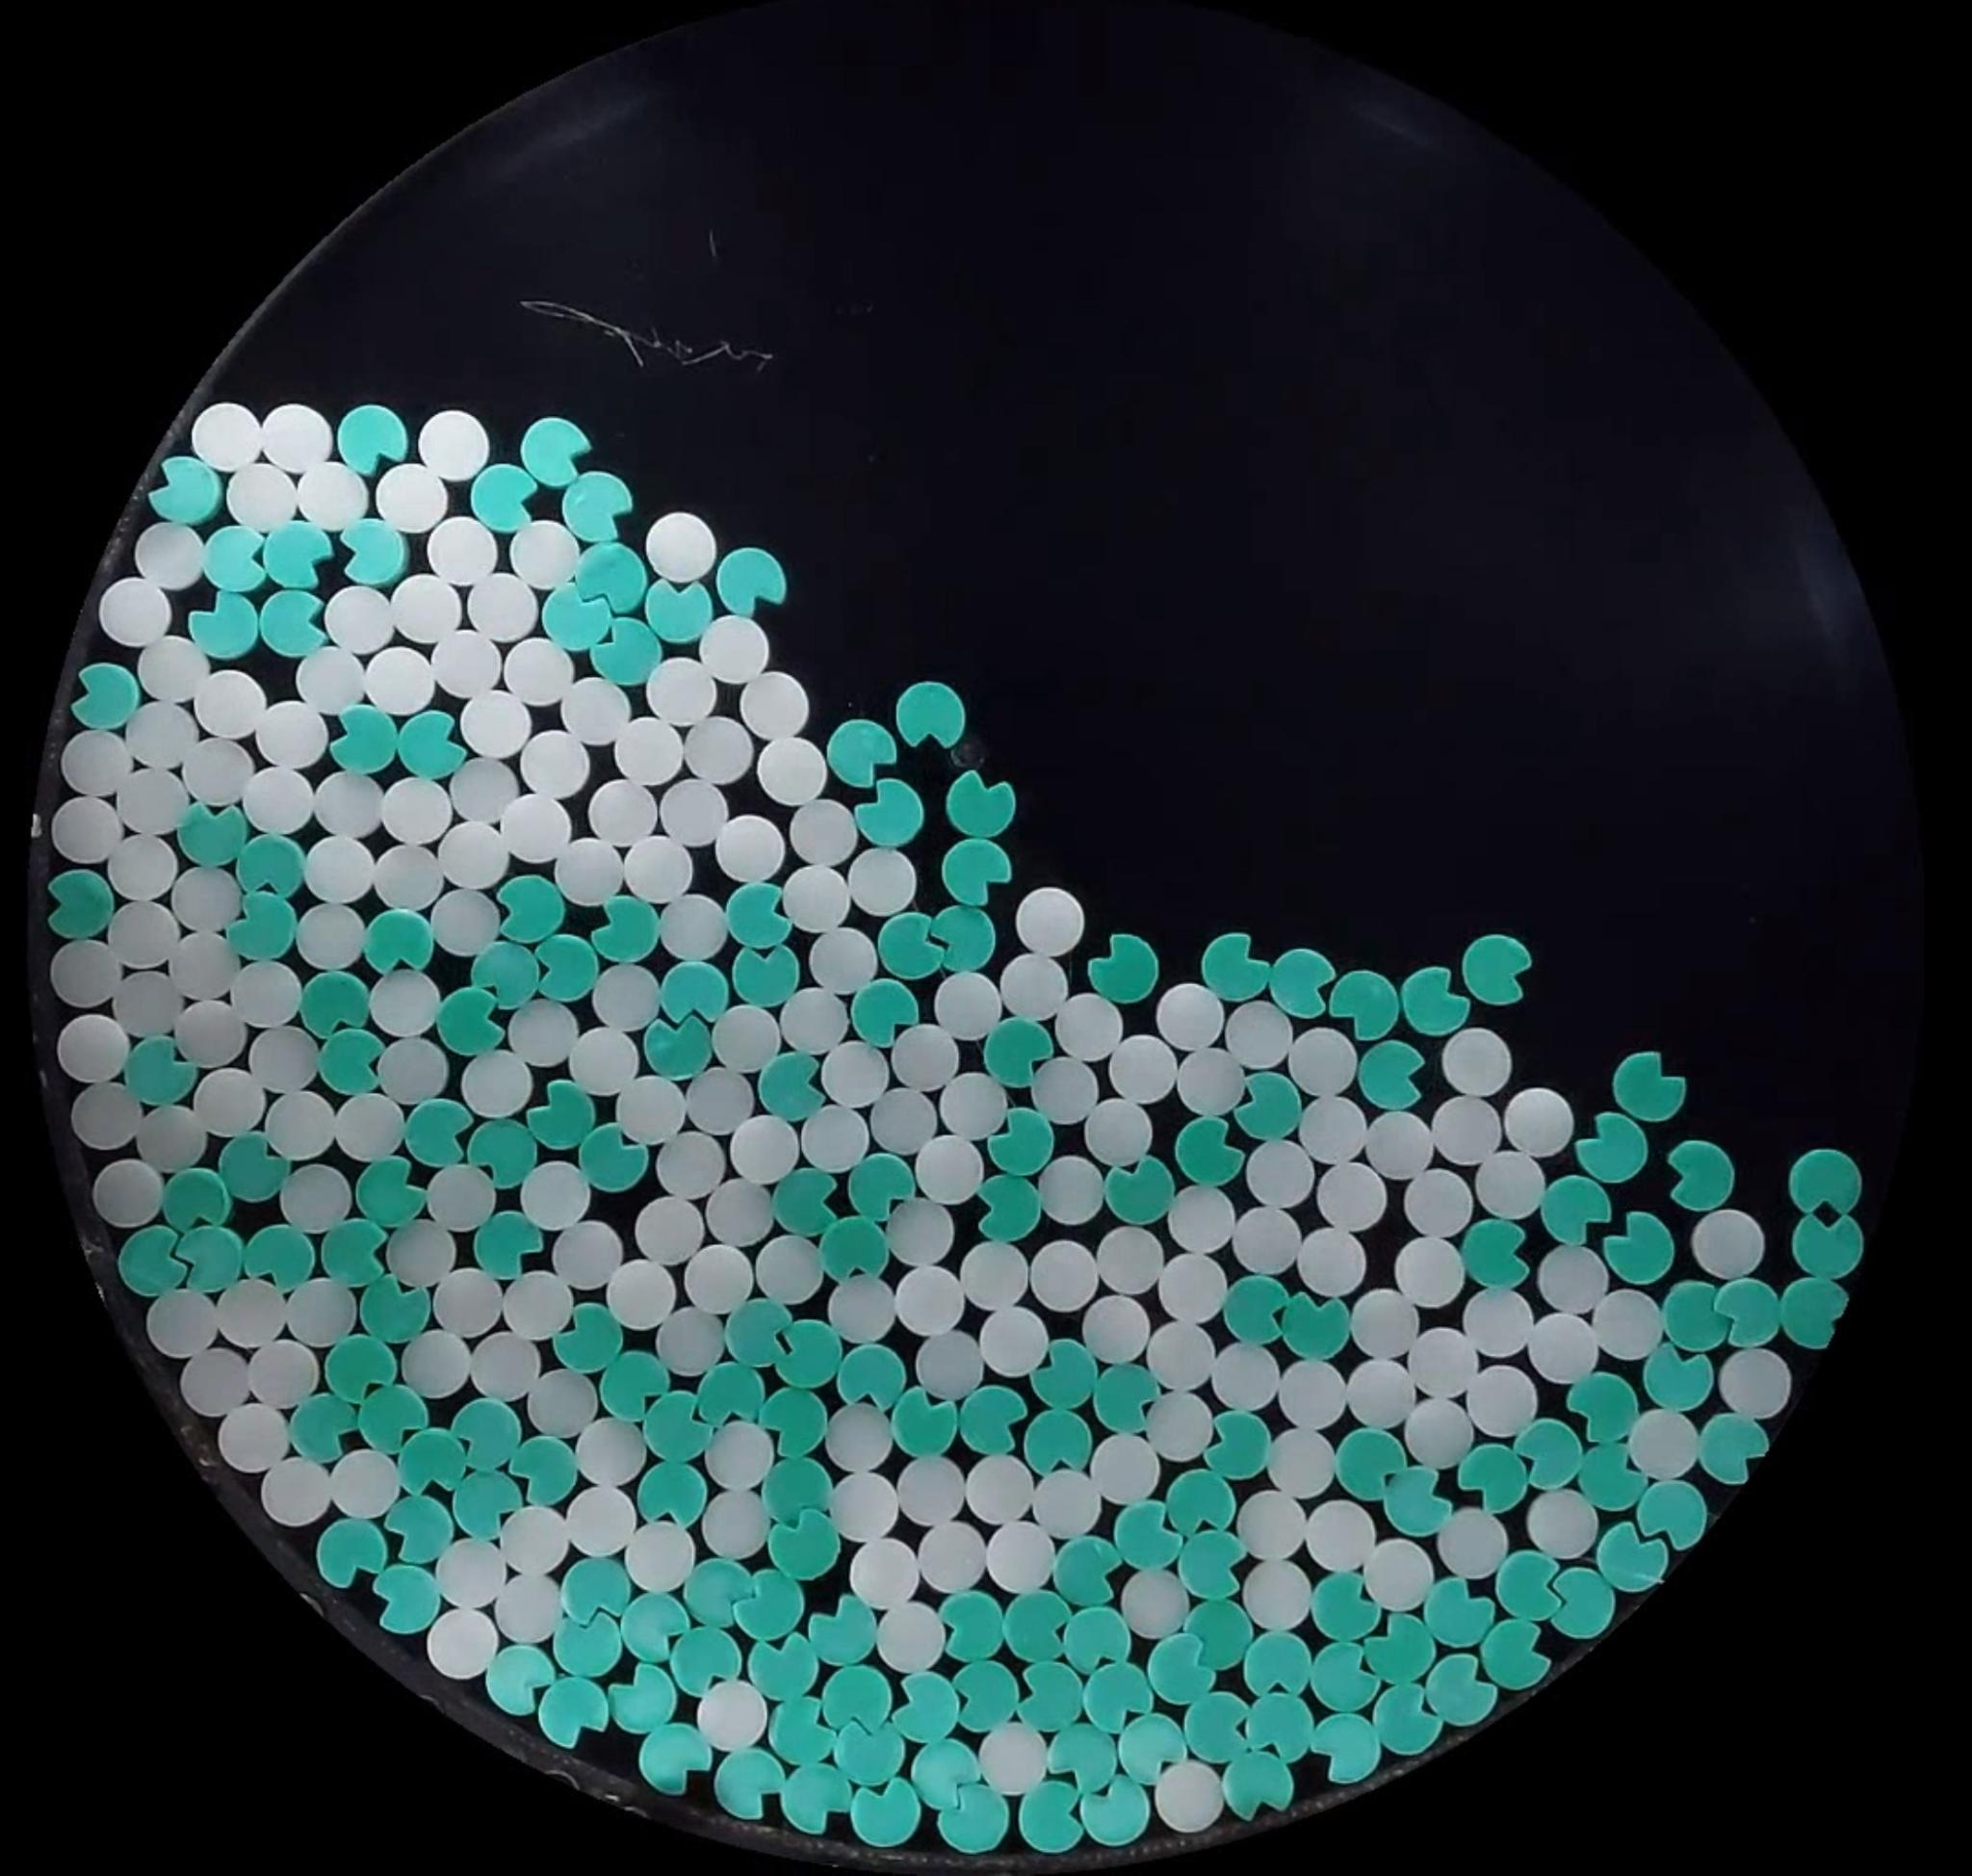no-convexa1: (677, 1339, 778, 1438), (117, 1209, 206, 1318), (339, 1263, 446, 1350), (1597, 1041, 1696, 1136), (204, 1127, 296, 1229), (1181, 1668, 1260, 1775), (438, 1397, 536, 1483), (1031, 1708, 1127, 1796), (1045, 1529, 1127, 1628), (171, 586, 267, 669), (1241, 1685, 1329, 1774), (1350, 1602, 1440, 1687), (1004, 1652, 1087, 1744), (751, 1377, 831, 1472), (1047, 1590, 1126, 1685), (1173, 1520, 1257, 1609), (1083, 1342, 1160, 1440), (839, 1329, 922, 1417), (341, 1152, 431, 1233), (1365, 1666, 1445, 1758), (1380, 1455, 1460, 1547), (1413, 1580, 1507, 1657), (774, 1681, 849, 1778), (541, 1296, 627, 1380), (601, 1661, 688, 1742), (1570, 1102, 1643, 1199), (930, 1588, 1011, 1674), (938, 1655, 1015, 1744), (242, 1212, 318, 1302), (321, 1321, 399, 1407), (730, 1292, 808, 1378), (1508, 1417, 1598, 1490), (440, 1453, 519, 1537), (1205, 1409, 1277, 1499), (734, 1634, 834, 1699), (557, 1550, 634, 1634), (679, 1549, 749, 1640), (1167, 1109, 1242, 1192), (1792, 1274, 1860, 1365), (1245, 1617, 1313, 1707), (1655, 1274, 1725, 1361), (963, 1378, 1040, 1456), (1177, 1590, 1254, 1668), (973, 1171, 1051, 1247), (1226, 1272, 1302, 1350), (1096, 1508, 1186, 1574), (881, 1390, 960, 1464), (883, 1666, 957, 1745), (345, 1380, 417, 1461), (1430, 1646, 1500, 1729), (225, 887, 301, 963), (759, 1449, 833, 1526), (288, 1371, 346, 1469), (536, 1675, 610, 1750), (637, 1723, 712, 1798), (714, 1747, 787, 1822), (732, 1567, 804, 1642), (147, 456, 224, 526), (315, 1516, 388, 1589), (1335, 1427, 1408, 1500), (1602, 1212, 1675, 1286), (381, 1492, 454, 1565), (524, 1080, 596, 1153), (1790, 1209, 1862, 1282), (1580, 1444, 1652, 1517), (767, 1509, 842, 1580), (573, 542, 648, 612), (1308, 1568, 1374, 1647), (1010, 1584, 1072, 1669), (599, 1348, 671, 1420), (940, 837, 1012, 909), (44, 868, 117, 940), (319, 1216, 392, 1288), (1569, 1371, 1640, 1445), (1221, 1751, 1292, 1824), (1541, 1173, 1612, 1246), (561, 472, 635, 543), (122, 1036, 195, 1107), (1713, 1275, 1784, 1348), (176, 798, 249, 870), (67, 661, 141, 732), (1462, 933, 1533, 1006), (508, 1435, 581, 1506), (937, 1783, 1009, 1854), (1698, 1413, 1769, 1485), (484, 1643, 555, 1716), (618, 1591, 688, 1664), (1087, 932, 1160, 1003), (636, 1458, 708, 1529), (402, 1098, 474, 1169), (668, 1623, 739, 1694), (1457, 1443, 1528, 1514), (1643, 1342, 1714, 1414), (1638, 1479, 1709, 1550), (984, 1107, 1055, 1179), (162, 1165, 233, 1237), (258, 587, 329, 659), (1789, 1147, 1860, 1218), (235, 831, 307, 901), (1494, 1550, 1564, 1623), (716, 546, 787, 617), (553, 1610, 625, 1680), (172, 1223, 245, 1292), (337, 404, 406, 476), (329, 703, 399, 775), (778, 1761, 846, 1835), (758, 1050, 829, 1119), (579, 1124, 650, 1193), (771, 1319, 843, 1389), (398, 1427, 467, 1498), (1104, 1155, 1176, 1224), (819, 1213, 889, 1285), (1079, 1778, 1151, 1847), (1461, 1216, 1530, 1288), (1281, 1291, 1352, 1361), (1232, 1072, 1303, 1141), (299, 968, 371, 1037), (1330, 970, 1399, 1041), (1357, 1038, 1426, 1109), (1547, 1565, 1617, 1636), (1665, 1138, 1734, 1210), (373, 1565, 442, 1636), (1598, 1522, 1670, 1591), (1481, 1618, 1550, 1689), (542, 582, 614, 650), (1083, 1661, 1151, 1734), (473, 1210, 543, 1279), (496, 875, 565, 946), (821, 1664, 892, 1733), (364, 906, 434, 976), (911, 1738, 981, 1808), (642, 1394, 713, 1464), (946, 769, 1016, 839), (520, 417, 590, 486), (396, 710, 465, 780), (853, 777, 924, 846), (262, 521, 333, 589), (1150, 1638, 1215, 1712), (849, 977, 919, 1047), (471, 939, 540, 1008), (983, 1017, 1052, 1086), (1118, 1714, 1187, 1784), (1637, 1477, 1706, 1547), (876, 911, 947, 979), (591, 617, 662, 686), (594, 894, 664, 962), (847, 1153, 916, 1222), (435, 987, 504, 1056), (317, 1026, 385, 1095), (895, 680, 965, 748), (827, 717, 895, 787), (658, 959, 728, 1027), (1024, 1407, 1091, 1476), (851, 1781, 921, 1848), (1312, 1713, 1382, 1781), (1402, 967, 1469, 1036), (200, 526, 270, 593), (470, 463, 538, 531), (931, 905, 999, 974), (341, 519, 408, 587), (469, 1121, 535, 1190), (1025, 1333, 1083, 1412), (645, 577, 713, 644), (1204, 934, 1271, 1002), (1019, 1784, 1084, 1853), (643, 1014, 713, 1080), (725, 880, 791, 948), (834, 1719, 900, 1786), (1269, 947, 1335, 1015), (731, 941, 800, 1005), (533, 934, 599, 1002), (772, 1167, 852, 1222), (1313, 1634, 1372, 1708), (812, 1586, 870, 1660), (1169, 1465, 1223, 1540)
